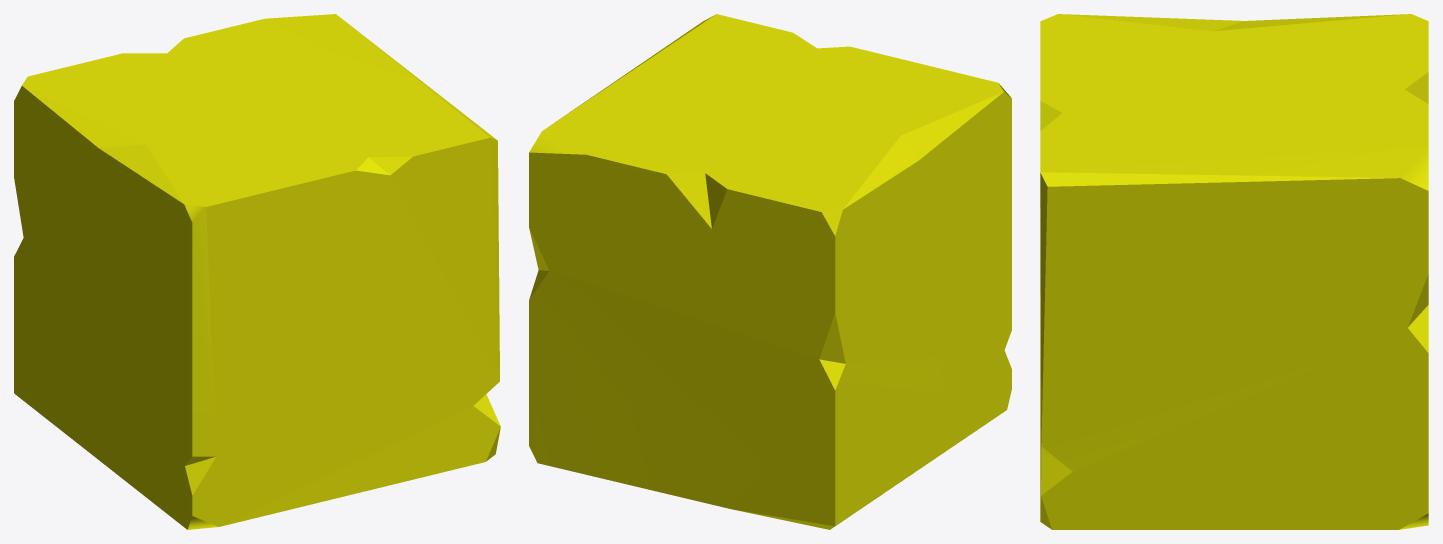
Rendered from SM_PolygonPrototype_Buildings_Block_1x1_01P.glb.
3 renders of one model, left to right at view 1: azimuth 30°, elevation 25°; view 2: azimuth 150°, elevation 25°; view 3: azimuth 270°, elevation 25°, orthographic. The views are drawn at different scales.
Visible parts, largest first — view 1: SM_PolygonPrototype_Buildings_Block_1x1_01P; view 2: SM_PolygonPrototype_Buildings_Block_1x1_01P; view 3: SM_PolygonPrototype_Buildings_Block_1x1_01P.
Part boxes in pixels (box(x1,y1,x2,y2)): SM_PolygonPrototype_Buildings_Block_1x1_01P: box(14, 14, 500, 529); SM_PolygonPrototype_Buildings_Block_1x1_01P: box(529, 14, 1011, 529); SM_PolygonPrototype_Buildings_Block_1x1_01P: box(1040, 14, 1428, 529).
Size of the model in its own units: 1 by 1 by 1.
1 material, 1 textured.
